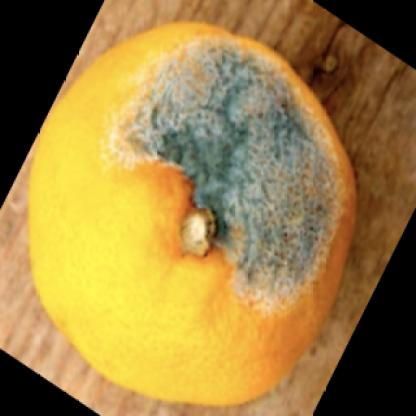rotten: (31, 22, 356, 410)
